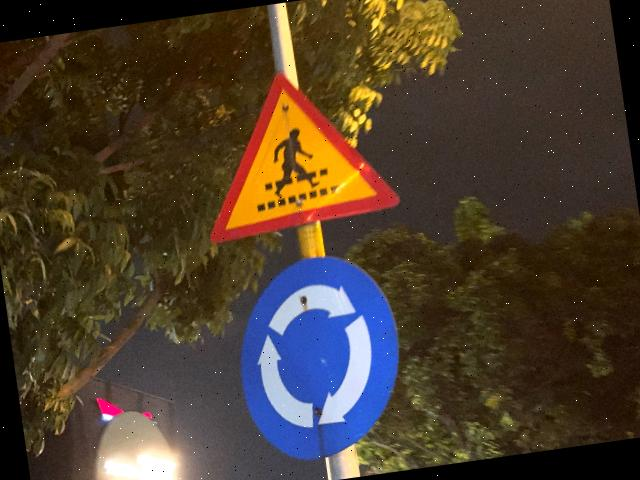duong-nguoi-di-bo-cat-ngang: (188, 53, 402, 244)
noi-giao-nhau-chay-theo-vong-xuyen: (224, 244, 415, 469)
